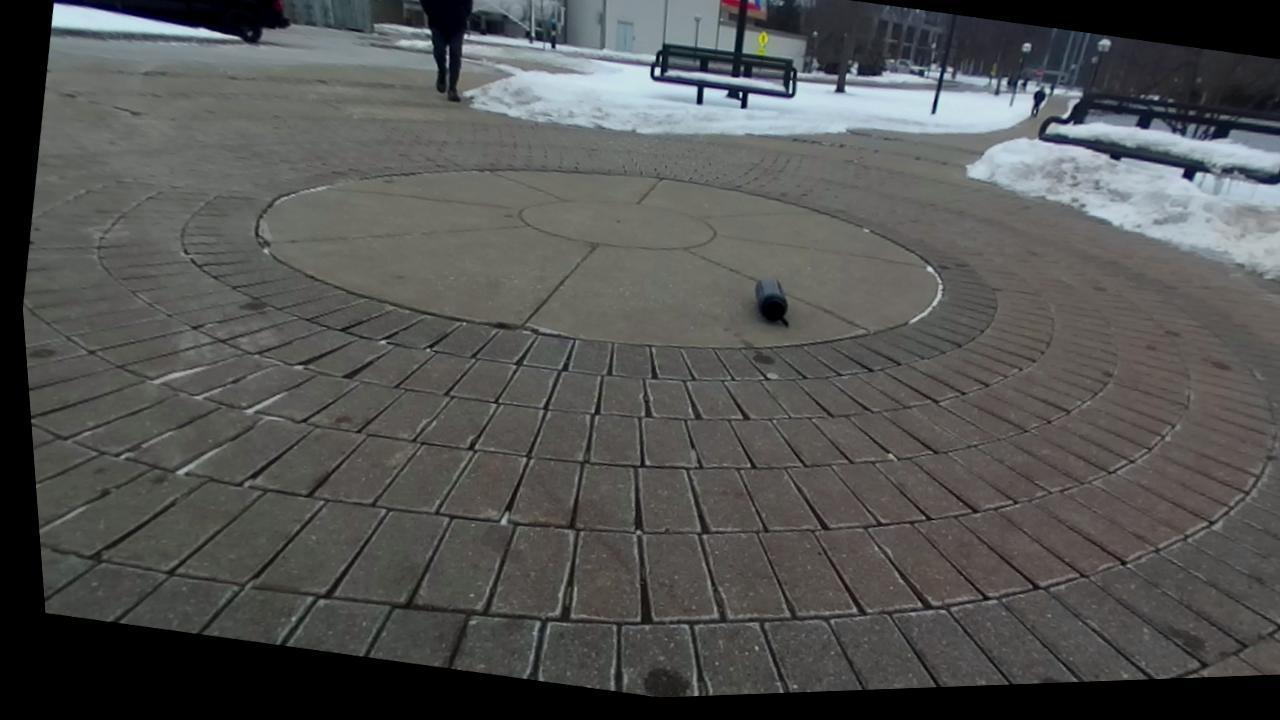bottle: (756, 278, 787, 326)
